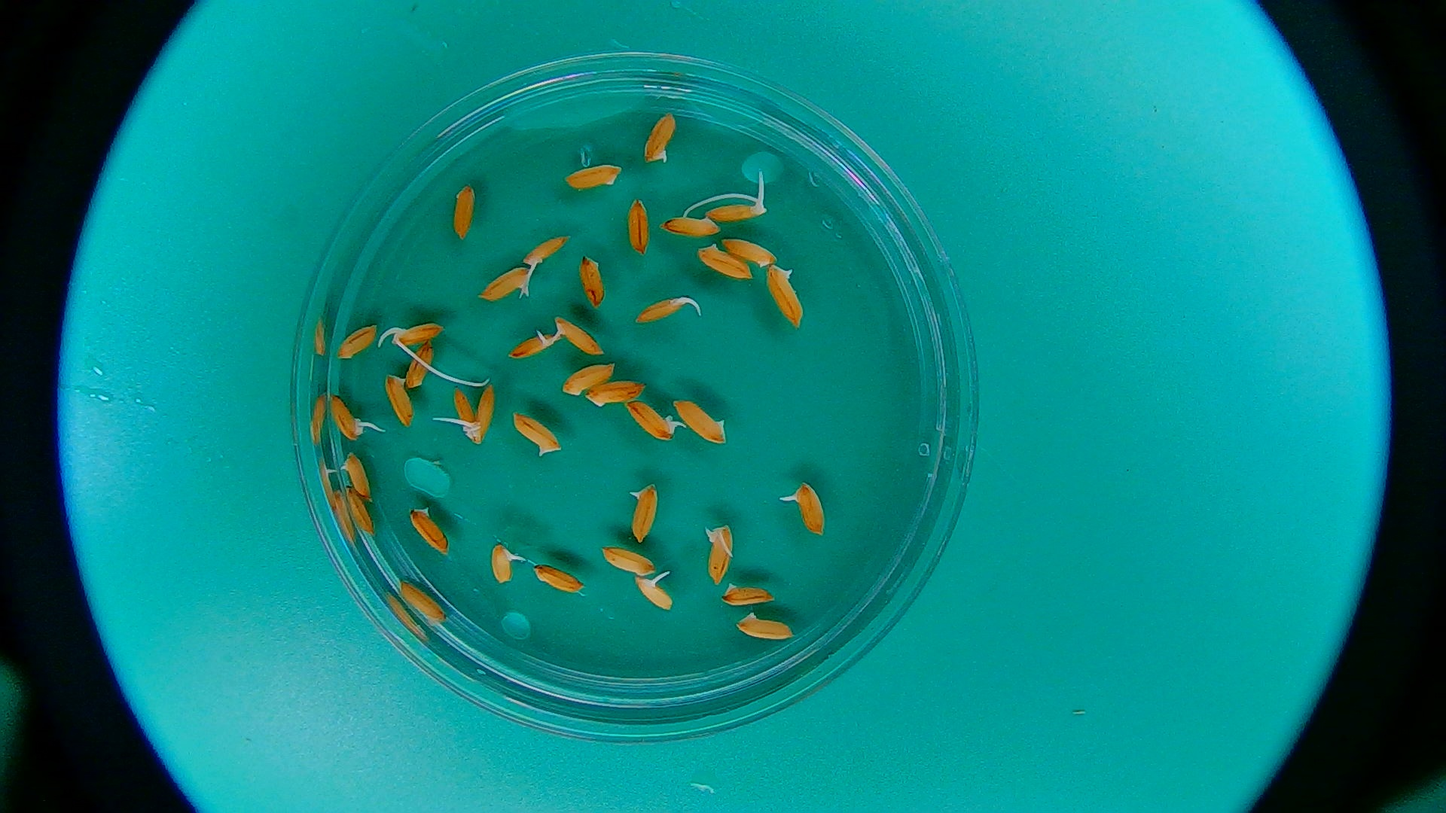no: (668, 394, 728, 445), (763, 259, 807, 327), (697, 237, 756, 280), (395, 580, 450, 624), (553, 313, 606, 358), (558, 359, 618, 398), (560, 158, 625, 193), (582, 377, 649, 410), (512, 416, 563, 456), (580, 248, 614, 308), (622, 195, 656, 255), (657, 209, 723, 239), (447, 380, 477, 446), (382, 370, 416, 428), (532, 560, 588, 595), (597, 543, 654, 577), (719, 579, 777, 612), (724, 235, 780, 269), (332, 321, 379, 361), (734, 613, 794, 642), (343, 484, 380, 531), (407, 508, 448, 550), (340, 451, 377, 496), (452, 181, 477, 239), (407, 340, 436, 389)
yes: (624, 399, 688, 445), (640, 108, 678, 167), (520, 229, 572, 272), (703, 521, 737, 585), (627, 483, 663, 543), (328, 387, 368, 440), (480, 263, 535, 301), (789, 480, 824, 536), (511, 323, 561, 362), (634, 571, 678, 613), (464, 384, 496, 440), (707, 197, 769, 223), (636, 295, 691, 324), (389, 319, 443, 348), (490, 541, 517, 586)
